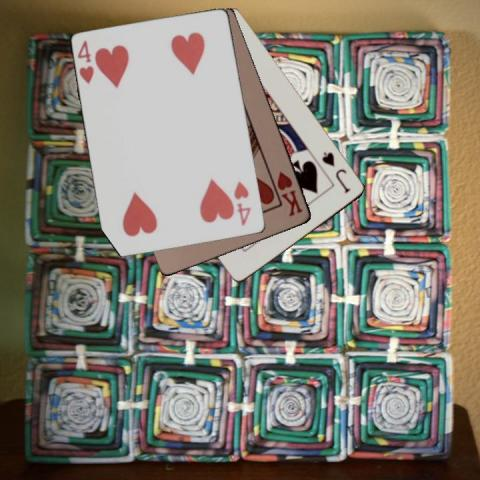4h: (75, 37, 96, 85), (233, 179, 253, 227)
Js: (318, 148, 352, 194)
Kh: (274, 168, 305, 219)
